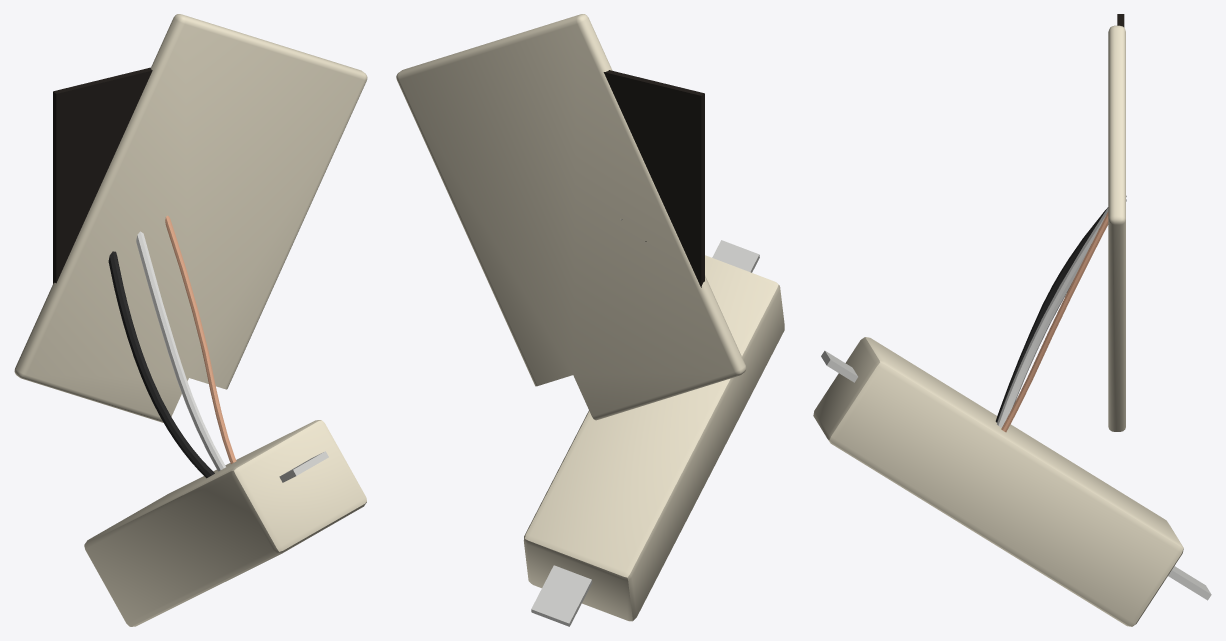
Rendered from outlet_broken.glb.
3 views of the same model, side by side, from view 1: azimuth 30°, elevation 25°; view 2: azimuth 150°, elevation 25°; view 3: azimuth 270°, elevation 25° (orthographic).
Parts seen in each view (by area): view 1: OutletBroken; view 2: OutletBroken; view 3: OutletBroken.
Part boxes in pixels (x1,y1,x2,y2): OutletBroken: (14,14,367,626); OutletBroken: (396,14,784,626); OutletBroken: (813,14,1211,626).
Bounding box in the file's own units: 0.1141 × 0.1871 × 0.1125.
